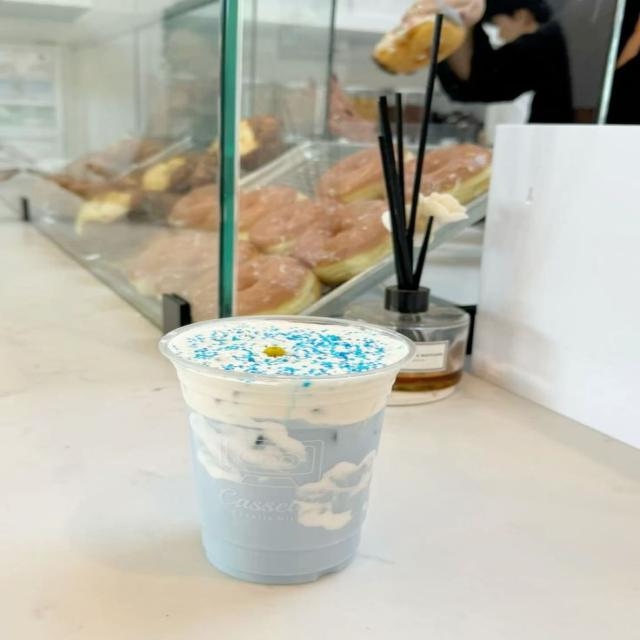plastic cup: (162, 315, 416, 584)
